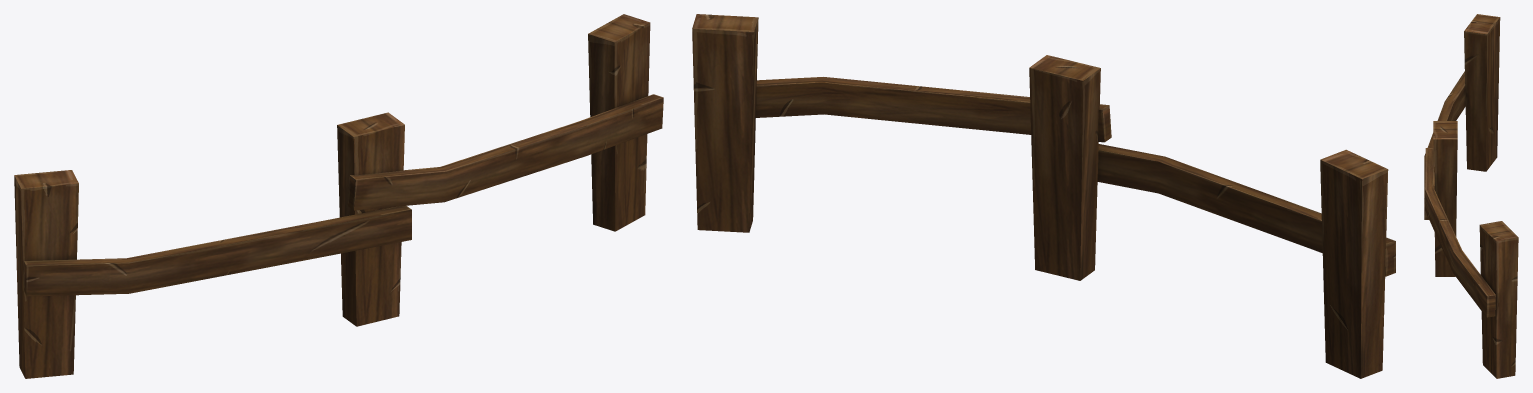
File: modelFenceCurve.fbx
The picture shows the model from 3 angles, left to right: view 1: azimuth 30°, elevation 25°; view 2: azimuth 150°, elevation 25°; view 3: azimuth 270°, elevation 25°; orthographic projection. The views are drawn at different scales.
Parts seen in each view (by area): view 1: modelFenceCurve; view 2: modelFenceCurve; view 3: modelFenceCurve.
Part boxes in pixels (box(x1,y1,x2,y2)): modelFenceCurve: box(14, 14, 663, 378); modelFenceCurve: box(692, 14, 1395, 378); modelFenceCurve: box(1424, 14, 1518, 378).
Size of the model in its own units: 33.66 by 9.48 by 5.82.
